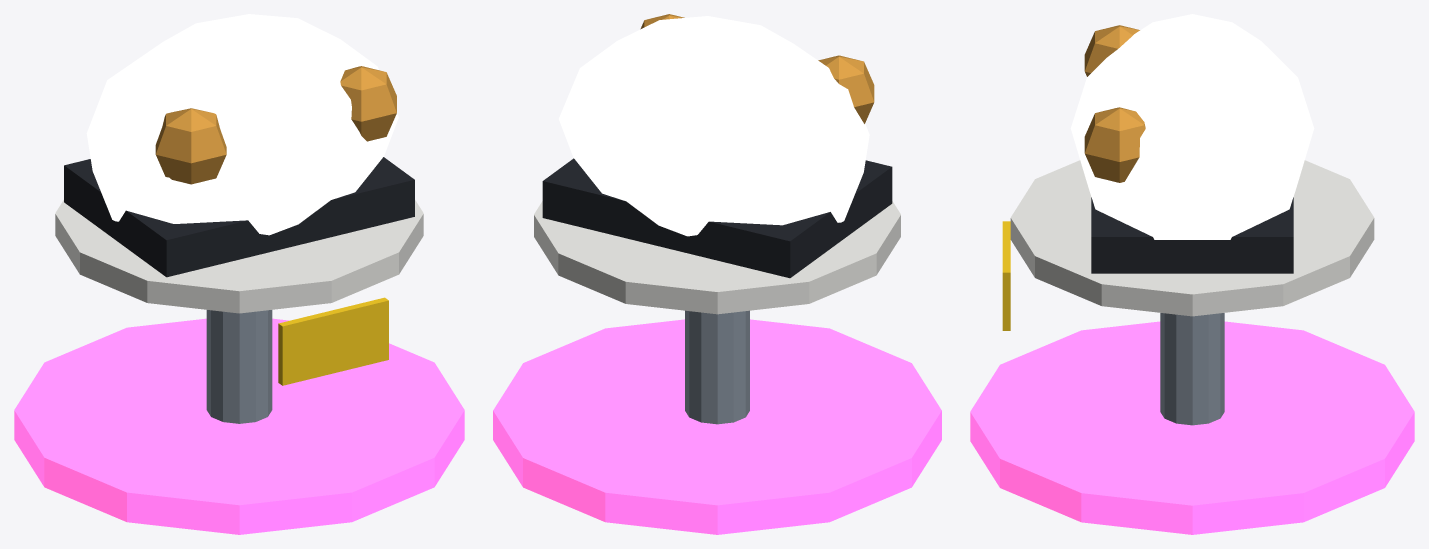
The model's file is item-rotisserie_chicken.glb.
The picture shows the model from 3 angles, left to right: view 1: azimuth 30°, elevation 25°; view 2: azimuth 150°, elevation 25°; view 3: azimuth 270°, elevation 25°; orthographic projection.
Visible parts, largest first — view 1: item-rotisserie_chicken; view 2: item-rotisserie_chicken; view 3: item-rotisserie_chicken.
Part boxes in pixels (x1,y1,x2,y2): item-rotisserie_chicken: (14,14,464,534); item-rotisserie_chicken: (493,14,941,534); item-rotisserie_chicken: (970,14,1414,534).
Bounding box in the file's own units: 1.1 × 1.11 × 1.1.
